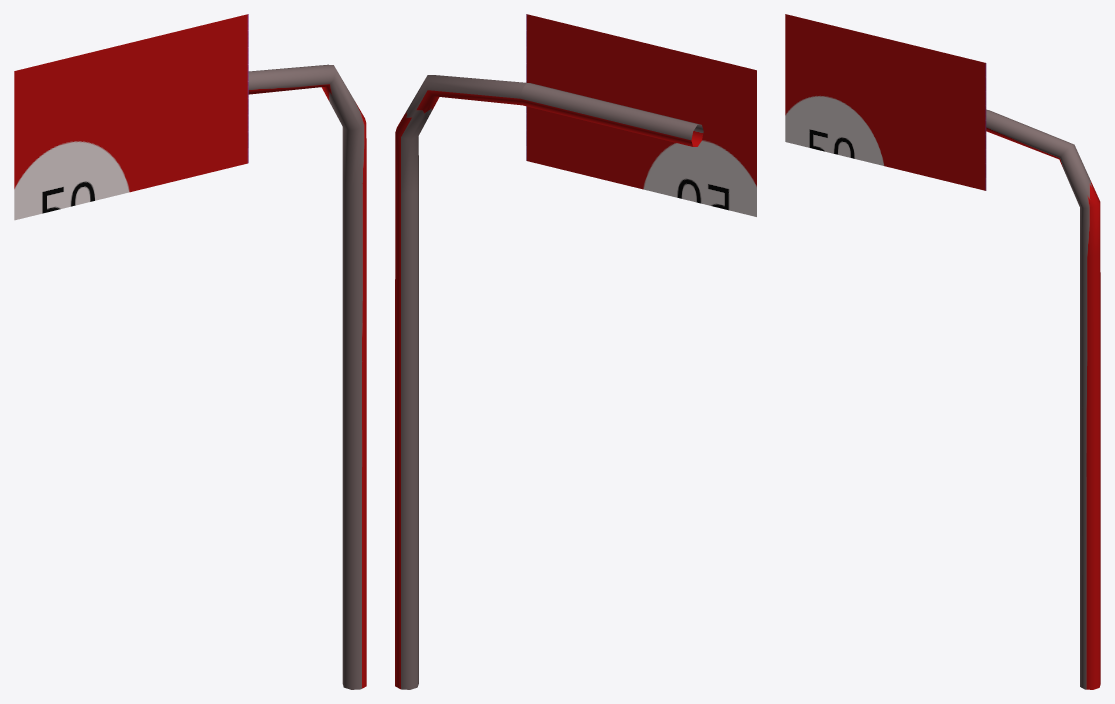
Rendered from InvertedRoadSign.fbx.
3 views of the same model, side by side, from view 1: azimuth 30°, elevation 25°; view 2: azimuth 150°, elevation 25°; view 3: azimuth 330°, elevation 25° (orthographic). The views are drawn at different scales.
Parts seen in each view (by area): view 1: RoadSign; view 2: RoadSign; view 3: RoadSign.
Part boxes in pixels (x1=…): RoadSign: x1=14, y1=14, x2=366, y2=689; RoadSign: x1=395, y1=14, x2=756, y2=689; RoadSign: x1=785, y1=14, x2=1100, y2=689.
Bounding box in the file's own units: 248 × 465 × 16.6.
